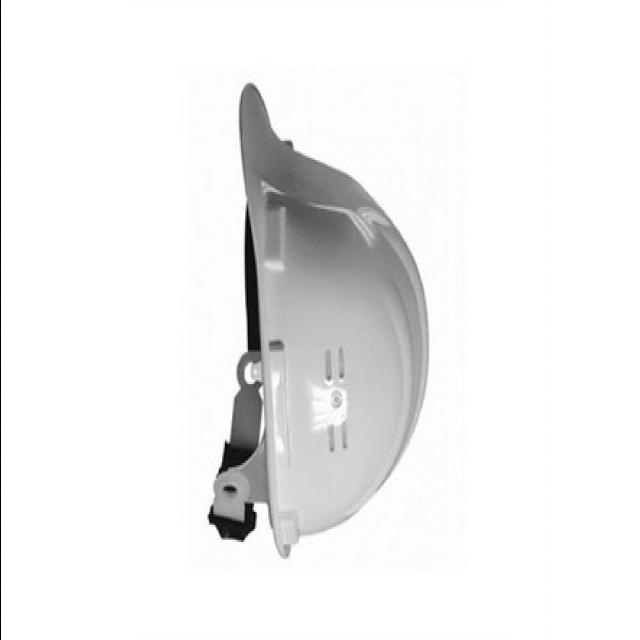safety_helmet: (207, 83, 428, 561)
